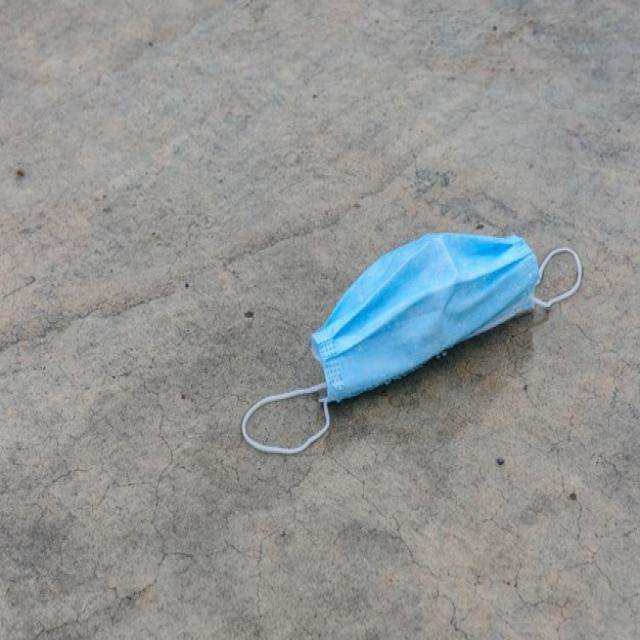non-organic waste: (237, 226, 586, 459)
